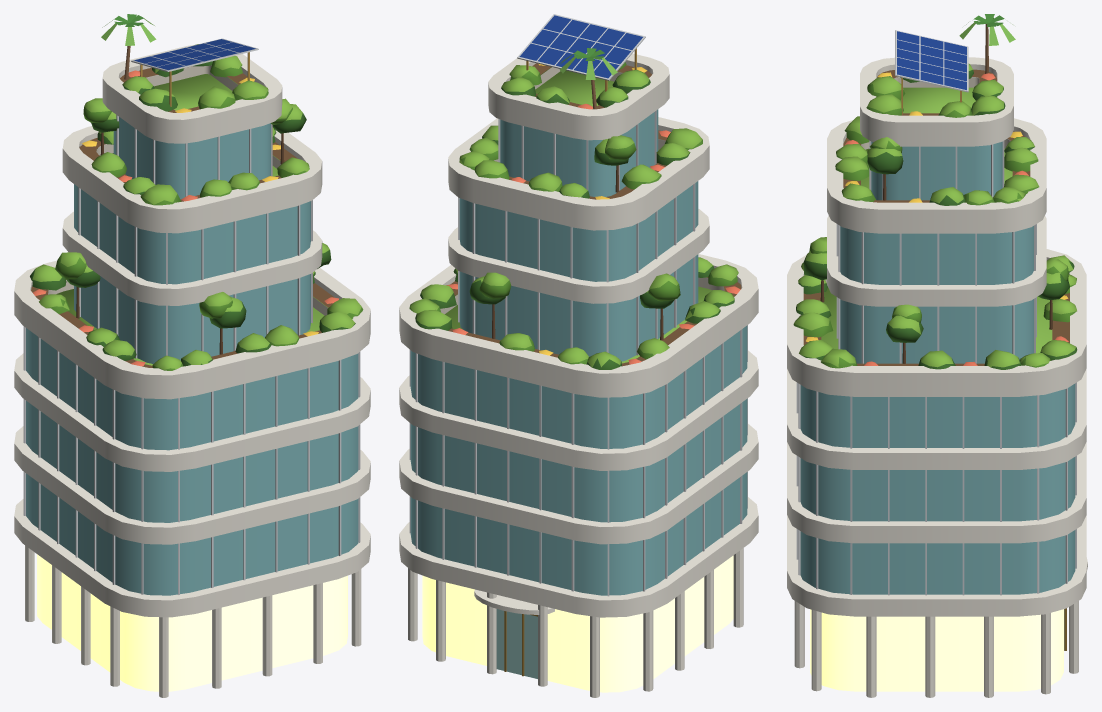
File: tower_a.glb
The picture shows the model from 3 angles, left to right: view 1: azimuth 30°, elevation 25°; view 2: azimuth 150°, elevation 25°; view 3: azimuth 270°, elevation 25°; orthographic projection.
Visible parts, largest first — view 1: tower, garden; view 2: tower, garden; view 3: tower, garden.
Part boxes in pixels (left/top/right/bottom): tower: left=14, top=38, right=370, bottom=697; garden: left=30, top=14, right=363, bottom=370; tower: left=399, top=14, right=758, bottom=697; garden: left=409, top=48, right=740, bottom=369; tower: left=787, top=30, right=1087, bottom=697; garden: left=793, top=14, right=1077, bottom=369.
Size of the model in its own units: 11.86 by 26.2 by 11.91.
